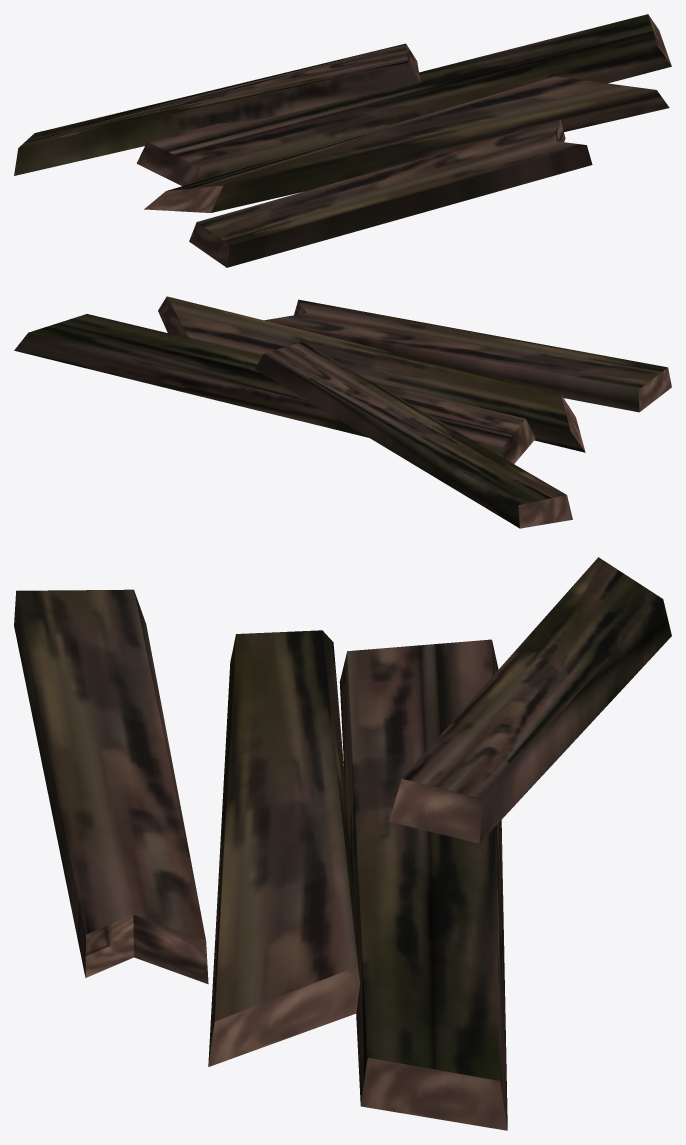
The model's file is PRP_WoodPieceB.FBX.
3 renders of one model, top to bottom at view 1: azimuth 30°, elevation 25°; view 2: azimuth 150°, elevation 25°; view 3: azimuth 270°, elevation 25°, orthographic. The views are drawn at different scales.
Parts seen in each view (by area): view 1: PRP_WoodPieceB; view 2: PRP_WoodPieceB; view 3: PRP_WoodPieceB.
Part boxes in pixels (bbox=[...]): PRP_WoodPieceB: bbox=[14, 14, 671, 267]; PRP_WoodPieceB: bbox=[14, 296, 671, 528]; PRP_WoodPieceB: bbox=[14, 557, 671, 1130].
Bounding box in the file's own units: 619 × 67.62 × 312.
